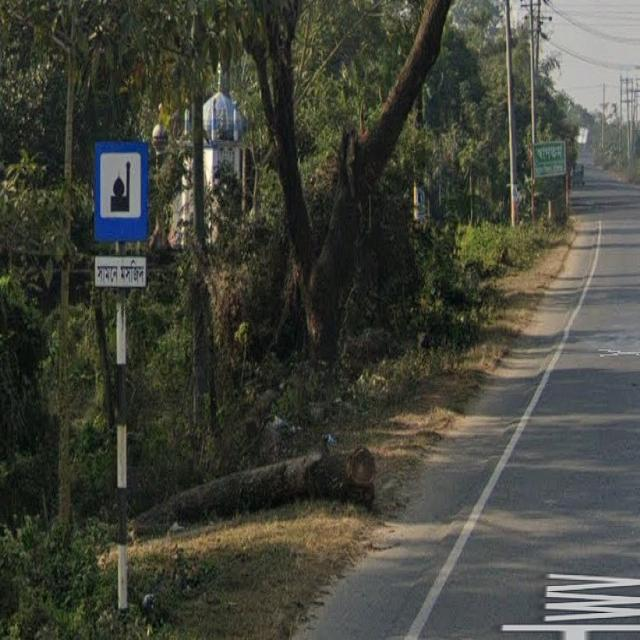Mosque in front: (91, 139, 150, 295)
